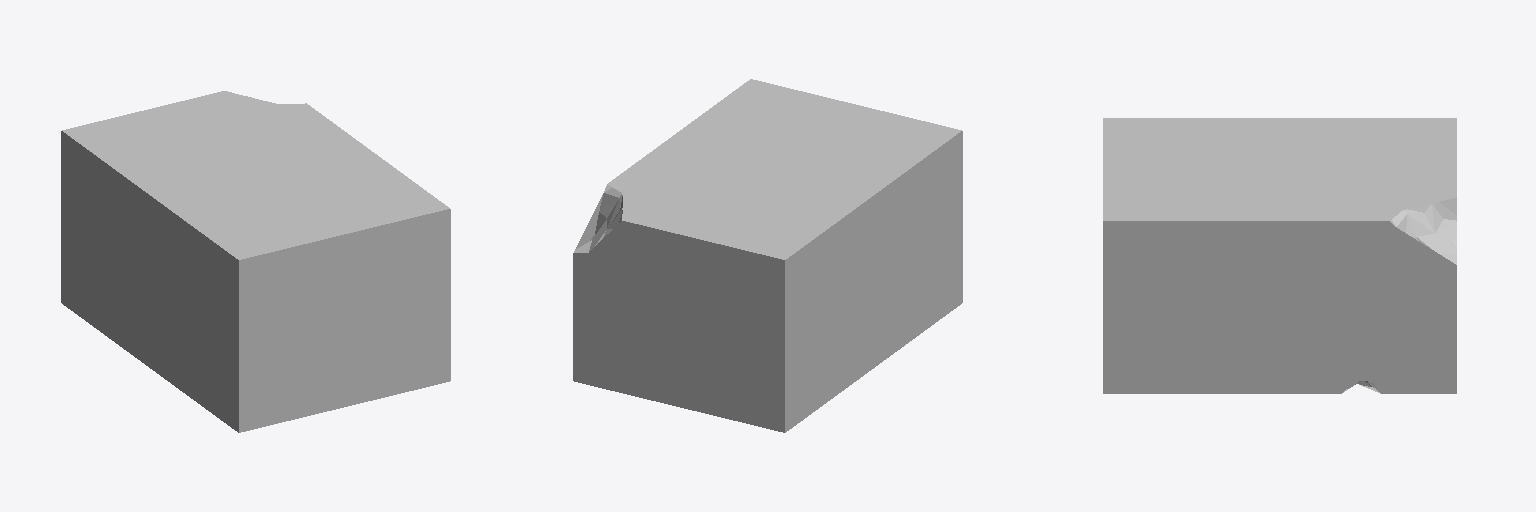
File: block_normal2.obj
The picture shows the model from 3 angles: view 1: azimuth 30°, elevation 25°; view 2: azimuth 150°, elevation 25°; view 3: azimuth 270°, elevation 25°; orthographic projection.
Parts seen in each view (by area): view 1: block_normal2; view 2: block_normal2; view 3: block_normal2.
Boxes of the visible parts, <box> form: block_normal2: <box>61,91,450,432</box>; block_normal2: <box>573,79,962,432</box>; block_normal2: <box>1103,118,1456,393</box>.
Size of the model in its own units: 0.3 by 0.234 by 0.435.